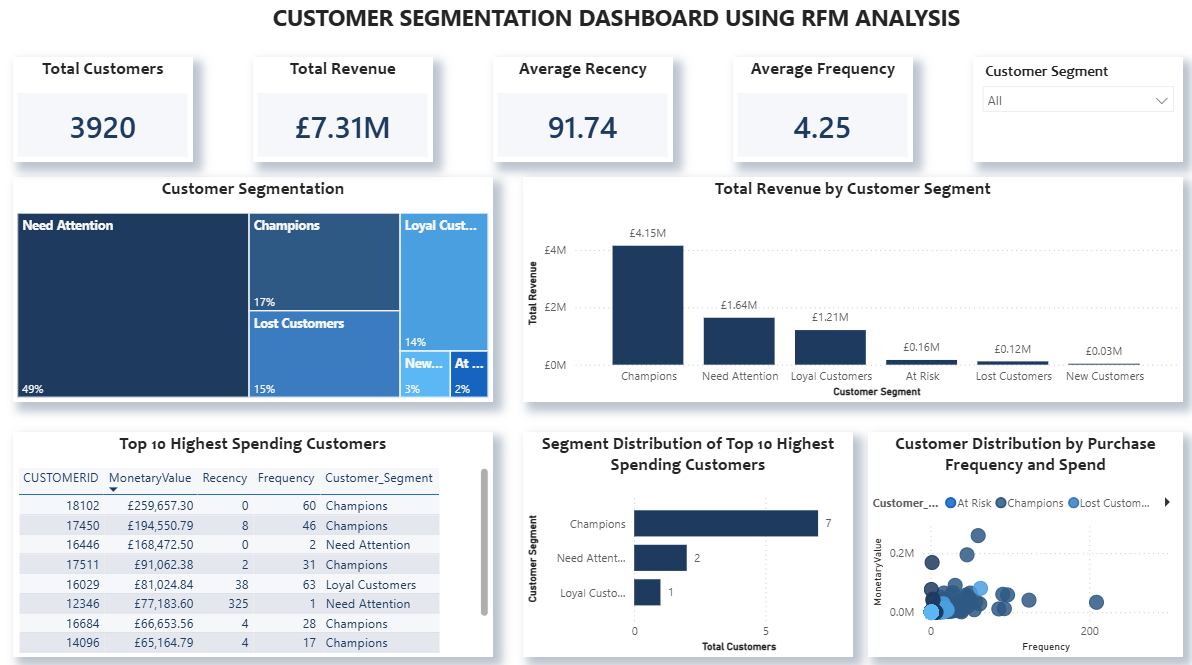

This screenshot's page, from the dashboard's own definition file:
{"tool":"powerbi","page":{"name":"RFM Dashboard","canvas":[1280,720],"ordinal":0},"visuals":[{"type":"treemap","title":"Customer Segmentation","fields":{"Group":["RFM_RESULT.Customer_Segment"],"Values":["CountNonNull(RFM_RESULT.CUSTOMERID)"]},"box":[16,192,512,240],"z":0},{"type":"cardVisual","title":"Total Customers","fields":{"Data":["CountNonNull(RFM_RESULT.CUSTOMERID)"]},"box":[16,64,192,112],"z":1000},{"type":"cardVisual","title":"Total Revenue","fields":{"Data":["Sum(RFM_RESULT.MonetaryValue)"]},"box":[272,64,192,112],"z":2000},{"type":"cardVisual","title":"Average Recency","fields":{"Data":["Avg(RFM_RESULT.Recency)"]},"box":[528,64,192,112],"z":3000},{"type":"cardVisual","title":"Average Frequency","fields":{"Data":["Avg(RFM_RESULT.Frequency)"]},"box":[784,64,192,112],"z":4000},{"type":"slicer","title":"Filter by Customer Segment","fields":{"Values":["RFM_RESULT.Customer_Segment"]},"box":[1040,64,224,112],"z":5000},{"type":"clusteredColumnChart","title":"Total Revenue by Customer Segment","fields":{"Category":["RFM_RESULT.Customer_Segment"],"Y":["Sum(RFM_RESULT.MonetaryValue)"]},"box":[560,192,704,240],"z":5001},{"type":"tableEx","title":"Top 10 Highest Spending Customers ","fields":{"Values":["RFM_RESULT.CUSTOMERID","RFM_RESULT.MonetaryValue","RFM_RESULT.Recency","RFM_RESULT.Frequency","RFM_RESULT.Customer_Segment"]},"box":[16,464,512,240],"z":5002},{"type":"clusteredBarChart","title":"Segment Distribution of Top 10 Highest Spending Customers","fields":{"Category":["RFM_RESULT.Customer_Segment"],"Y":["CountNonNull(RFM_RESULT.CUSTOMERID)"]},"box":[560,464,352,240],"z":5003},{"type":"scatterChart","title":"Customer Distribution by Purchase Frequency and Spend","fields":{"X":["RFM_RESULT.Frequency"],"Y":["RFM_RESULT.MonetaryValue"],"Series":["RFM_RESULT.Customer_Segment"]},"box":[928,464,336,240],"z":5004},{"type":"textbox","box":[288,0,784,48],"z":5005}]}

Visuals, with their boxes in screenshot pixels (x1, y1, x2, y2), scaled from the page's 1280x720 canvas onto the 1192x665 screenshot:
"Customer Segmentation" treemap: left=15, top=177, right=492, bottom=399
"Total Customers" cardVisual: left=15, top=59, right=194, bottom=163
"Total Revenue" cardVisual: left=253, top=59, right=432, bottom=163
"Average Recency" cardVisual: left=492, top=59, right=670, bottom=163
"Average Frequency" cardVisual: left=730, top=59, right=909, bottom=163
"Filter by Customer Segment" slicer: left=968, top=59, right=1177, bottom=163
"Total Revenue by Customer Segment" clusteredColumnChart: left=522, top=177, right=1177, bottom=399
"Top 10 Highest Spending Customers " tableEx: left=15, top=429, right=492, bottom=650
"Segment Distribution of Top 10 Highest Spending Customers" clusteredBarChart: left=522, top=429, right=849, bottom=650
"Customer Distribution by Purchase Frequency and Spend" scatterChart: left=864, top=429, right=1177, bottom=650
textbox: left=268, top=0, right=998, bottom=44
